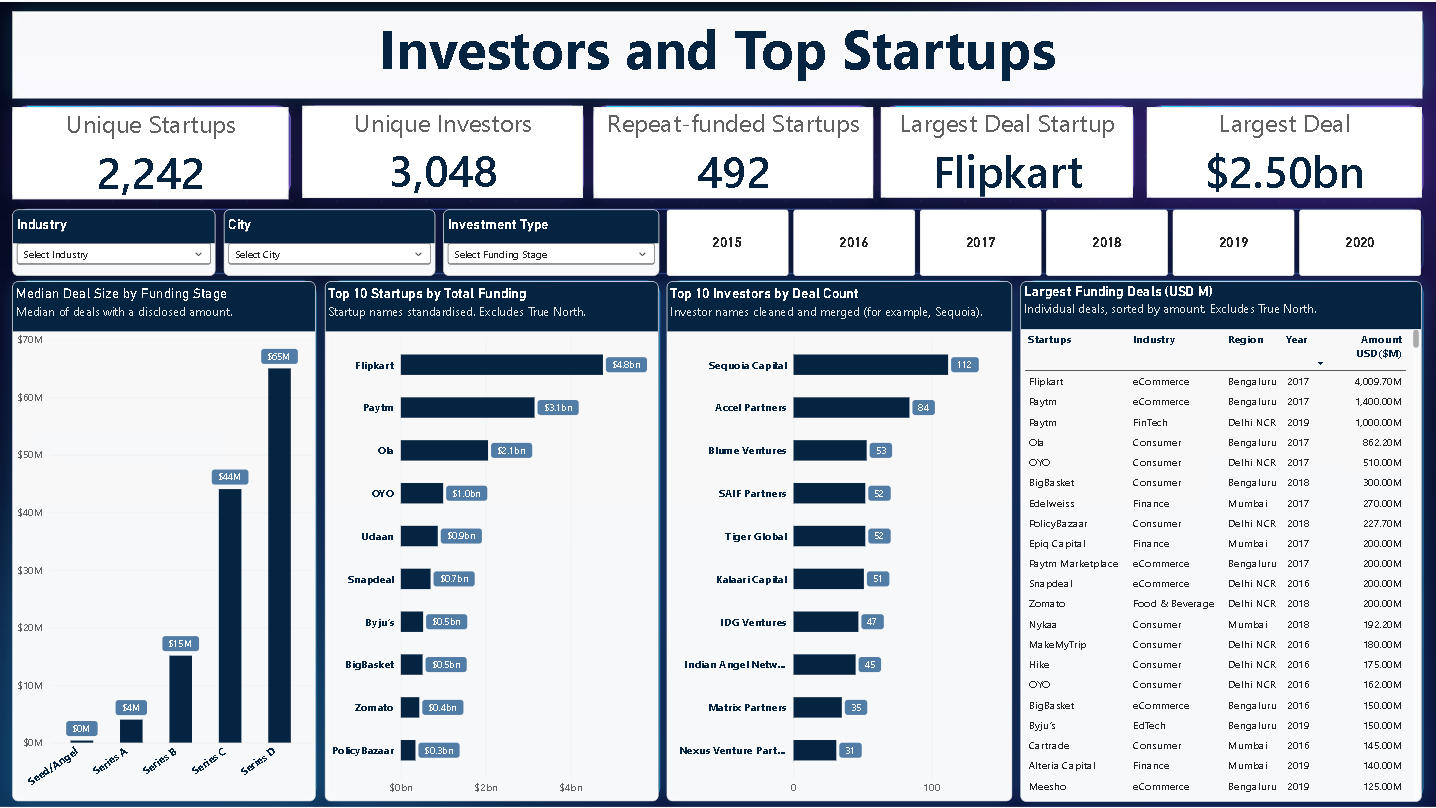

Layout of this report page (visuals, bound fields, positions):
{"tool":"powerbi","page":{"name":"Investors & Startups","canvas":[1920,1080],"ordinal":1},"visuals":[{"type":"cardVisual","fields":{"Data":["funding.Repeat-funded Startups"]},"box":[794.2,140.8,373.7,122],"z":0},{"type":"cardVisual","fields":{"Data":["funding.Unique Startups"]},"box":[17.6,140.8,369.3,123.1],"z":1000},{"type":"cardVisual","fields":{"Data":["funding.Largest Deal"]},"box":[1533.6,140.8,367.3,121.1],"z":2000},{"type":"cardVisual","fields":{"Data":["investors.Unique Investors"]},"box":[404.9,138.9,375.4,123.1],"z":3000},{"type":"textbox","box":[17.4,12,1884.2,116.2],"z":4000},{"type":"clusteredBarChart","title":"Top 10 Investors by Deal Count","fields":{"Category":["investors.investor"],"Y":["investors.Investor Deals"]},"box":[892,373.6,461.6,694.4],"z":5000},{"type":"clusteredBarChart","title":"Top 10 Startups by Total Funding","fields":{"Category":["funding.startup_clean"],"Y":["funding.Startup Funding"]},"box":[436.2,373.6,446,694.4],"z":6000},{"type":"clusteredColumnChart","title":"Median Deal Size by Funding Stage","fields":{"Category":["funding.investment_type"],"Y":["funding.Median Deal Size"]},"box":[17.6,373.6,404.9,694.4],"z":7000},{"type":"cardVisual","fields":{"Data":["funding.Largest Deal Startup"]},"box":[1177.6,140.8,337,121.1],"z":8000},{"type":"tableEx","title":"Largest Funding Deals (USD M)","fields":{"Values":["funding.startup_clean","funding.industry","funding.Region","funding.year.Variation.Date Hierarchy.Year","Sum(funding.amount_usd)"]},"box":[1365.2,373.7,536.4,695.2],"z":9000},{"type":"advancedSlicerVisual","fields":{"Values":["funding.year.Variation.Date Hierarchy.Year"]},"box":[892.7,276.9,1008.9,89.1],"z":10000},{"type":"listSlicer","title":"Industry","fields":{"Values":["funding.industry"]},"box":[17.4,276.9,271.1,89.1],"z":11000},{"type":"listSlicer","title":"Investment Type","fields":{"Values":["funding.investment_type"]},"box":[593.2,276.9,288.5,89.1],"z":12000},{"type":"listSlicer","title":"City","fields":{"Values":["funding.city_clean"]},"box":[299.5,276.9,282.7,89.1],"z":13000}]}

Visuals, with their boxes in screenshot pixels (x1, y1, x2, y2), scaled from the page's 1920x1080 canvas onto the 1436x808 screenshot:
cardVisual - funding.Repeat-funded Startups: {"x1": 594, "y1": 105, "x2": 873, "y2": 197}
cardVisual - funding.Unique Startups: {"x1": 13, "y1": 105, "x2": 289, "y2": 197}
cardVisual - funding.Largest Deal: {"x1": 1147, "y1": 105, "x2": 1422, "y2": 196}
cardVisual - investors.Unique Investors: {"x1": 303, "y1": 104, "x2": 584, "y2": 196}
textbox: {"x1": 13, "y1": 9, "x2": 1422, "y2": 96}
"Top 10 Investors by Deal Count" clusteredBarChart: {"x1": 667, "y1": 280, "x2": 1012, "y2": 799}
"Top 10 Startups by Total Funding" clusteredBarChart: {"x1": 326, "y1": 280, "x2": 660, "y2": 799}
"Median Deal Size by Funding Stage" clusteredColumnChart: {"x1": 13, "y1": 280, "x2": 316, "y2": 799}
cardVisual - funding.Largest Deal Startup: {"x1": 881, "y1": 105, "x2": 1133, "y2": 196}
"Largest Funding Deals (USD M)" tableEx: {"x1": 1021, "y1": 280, "x2": 1422, "y2": 800}
advancedSlicerVisual - funding.year.Variation.Date Hierarchy.Year: {"x1": 668, "y1": 207, "x2": 1422, "y2": 274}
"Industry" listSlicer: {"x1": 13, "y1": 207, "x2": 216, "y2": 274}
"Investment Type" listSlicer: {"x1": 444, "y1": 207, "x2": 659, "y2": 274}
"City" listSlicer: {"x1": 224, "y1": 207, "x2": 435, "y2": 274}
